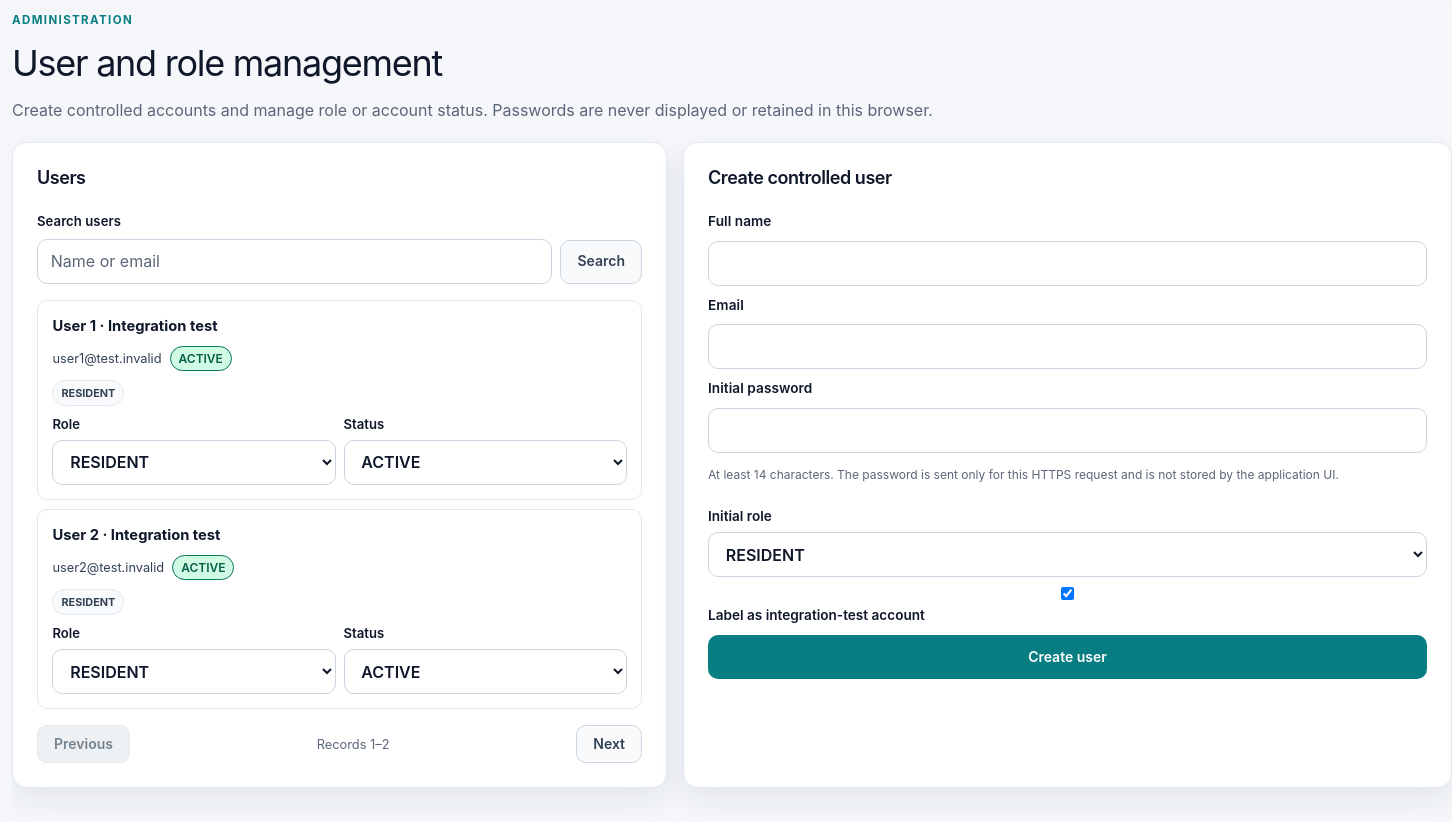
Test: UsersPage › shows the next two users and returns to the preceding page
Later steps or results of the test are not shown.
Check: the dropdown named "Role for User 1" is shown, box [52,440,336,485]
Click the button "Next": (609, 744) [576,726,642,764]
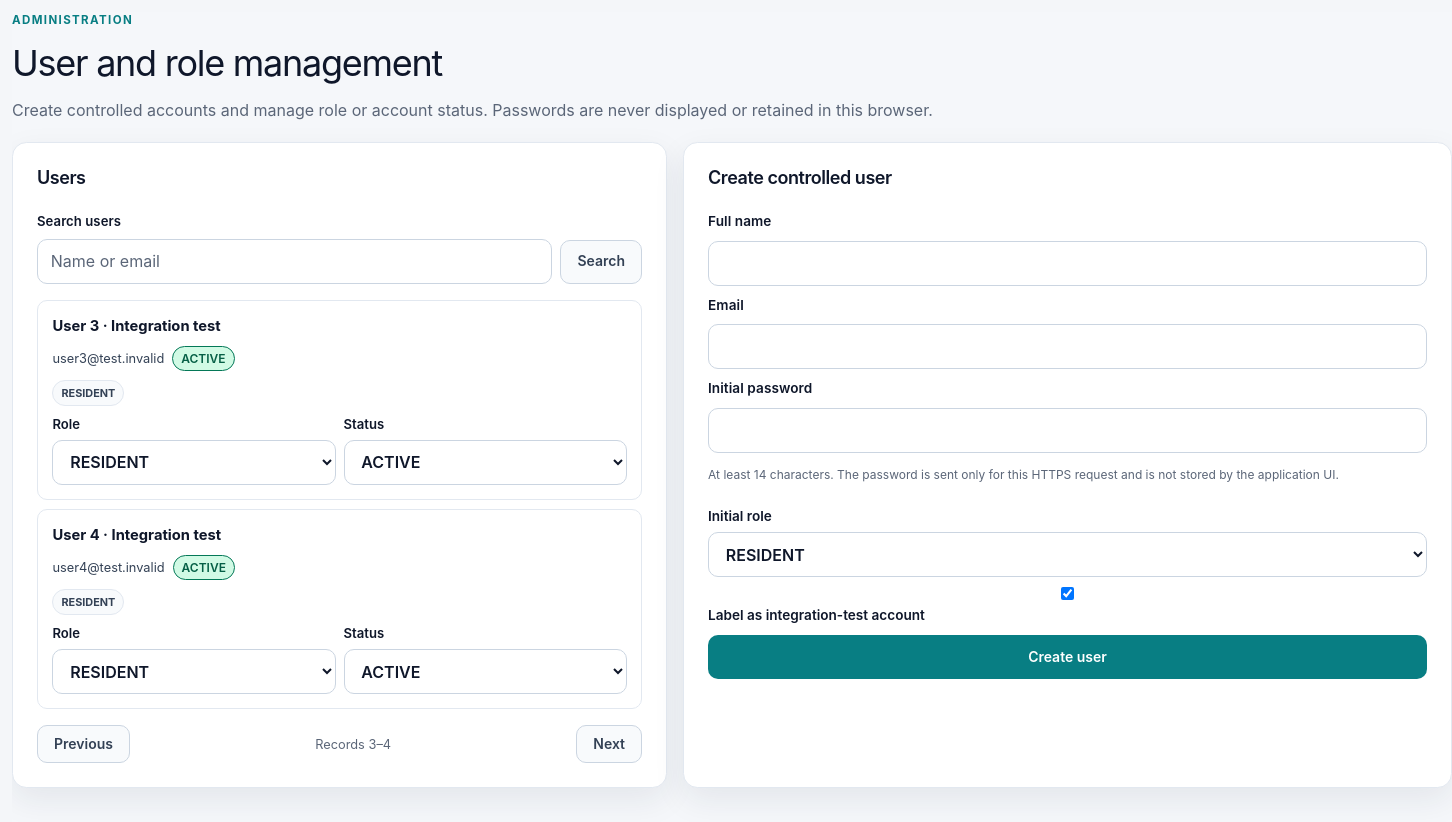
Check: the text "Records 3–4" is shown, box [315,735,391,754]
